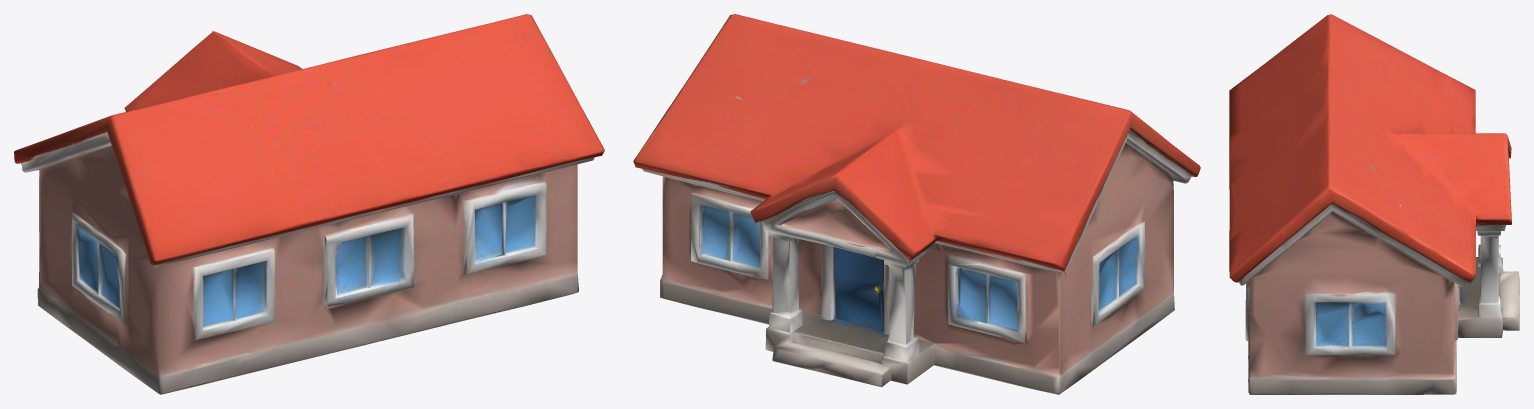
Rendered from casa-n02-5163ef36.glb.
3 views of the same model, side by side, from view 1: azimuth 30°, elevation 25°; view 2: azimuth 150°, elevation 25°; view 3: azimuth 270°, elevation 25° (orthographic). The views are drawn at different scales.
Parts seen in each view (by area): view 1: casa_n02; view 2: casa_n02; view 3: casa_n02.
Part boxes in pixels (x1,y1,x2,y2): casa_n02: [14, 14, 604, 394]; casa_n02: [633, 14, 1200, 394]; casa_n02: [1229, 14, 1519, 394].
Size of the model in its own units: 10.02 by 5.18 by 6.55.
Materials: 1 (1 with a texture image).
